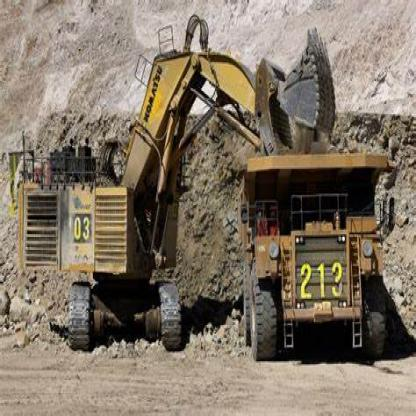dump_truck: (236, 140, 400, 364)
excavator: (16, 29, 335, 375)
